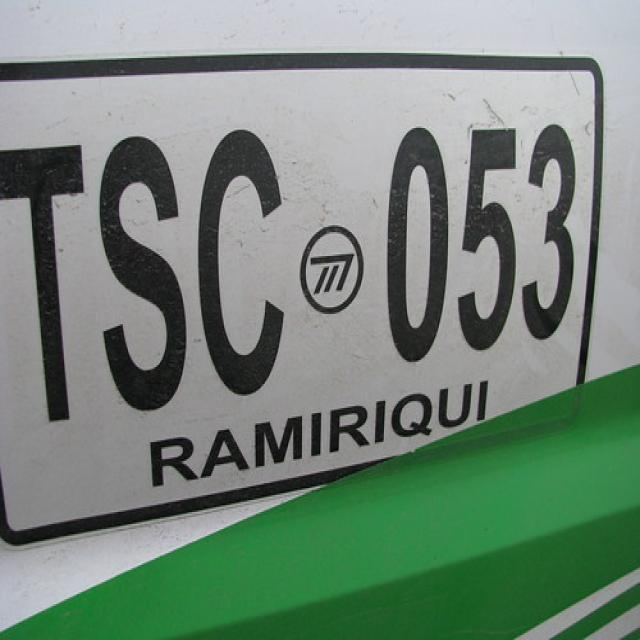placas: (2, 74, 589, 430)
